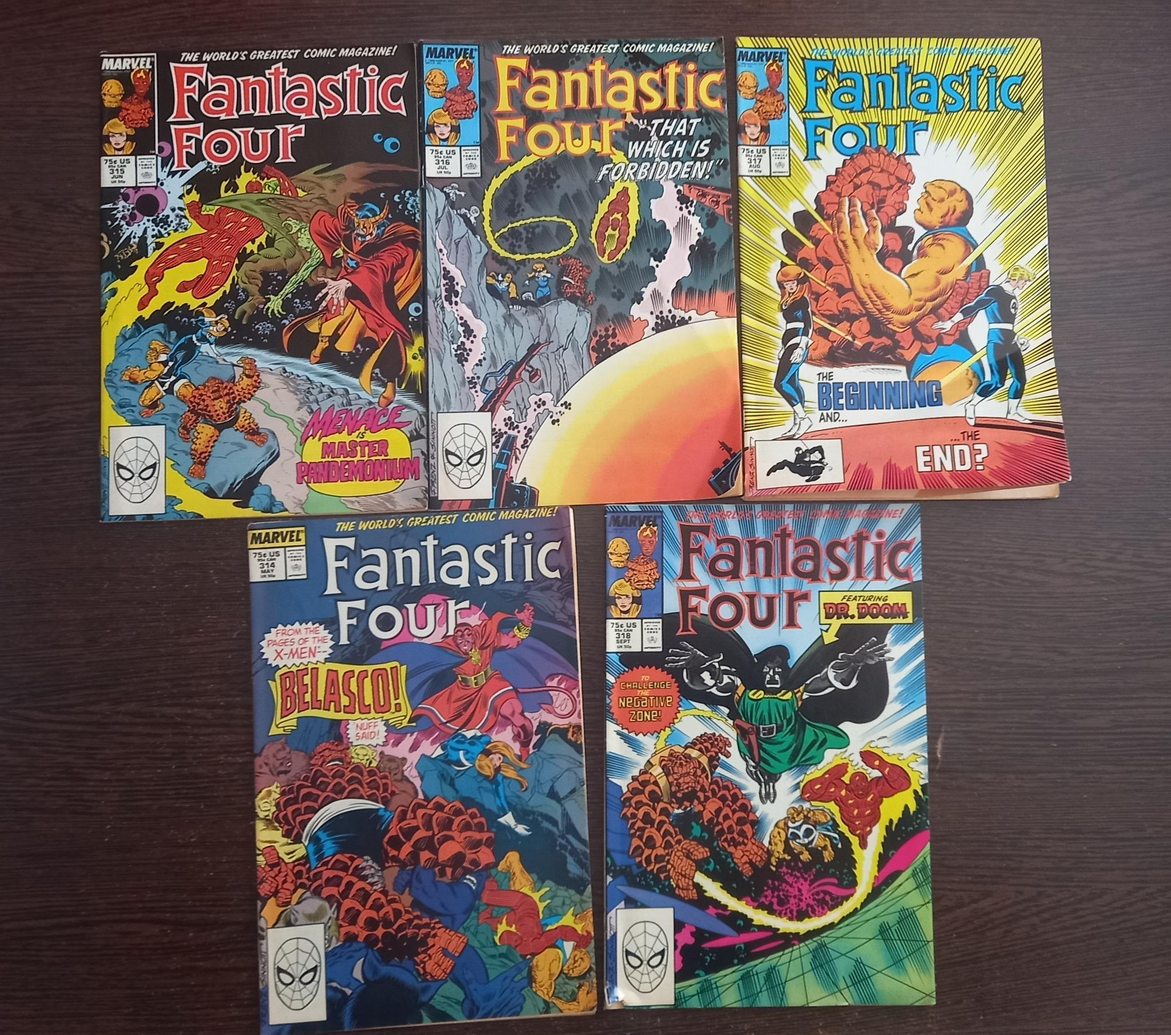comic: (235, 505, 598, 1035), (601, 500, 934, 1008), (94, 43, 428, 520), (735, 30, 1070, 502), (418, 34, 743, 509)
